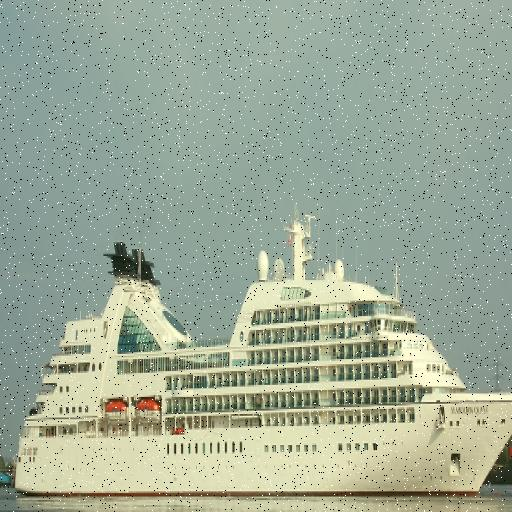cruises: (12, 200, 512, 508)
